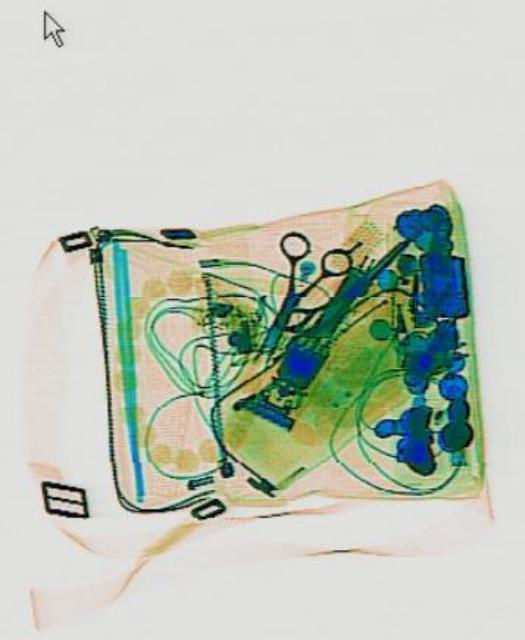Scissors: (226, 215, 353, 382)
